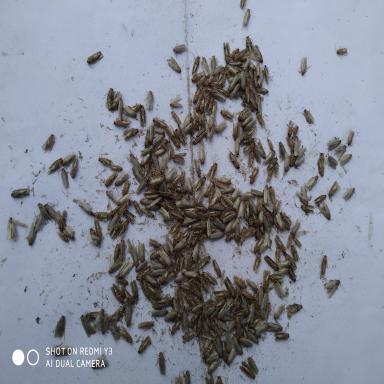pbw: (125, 234, 141, 270), (112, 256, 135, 281), (324, 273, 345, 300), (104, 180, 124, 208), (82, 47, 105, 71), (77, 312, 96, 341), (89, 351, 110, 377), (262, 155, 281, 183), (38, 128, 57, 156), (116, 322, 136, 348), (91, 302, 107, 334), (40, 201, 62, 224), (102, 80, 116, 116), (152, 346, 168, 377), (32, 204, 48, 234), (92, 150, 117, 169), (316, 198, 334, 224), (125, 150, 144, 174), (8, 183, 33, 201), (85, 224, 101, 252), (136, 332, 153, 358), (89, 216, 106, 242), (76, 198, 96, 220), (44, 154, 64, 176), (285, 299, 305, 321), (53, 226, 72, 249), (108, 282, 126, 306), (52, 207, 68, 234), (117, 203, 137, 224), (238, 6, 254, 32), (65, 154, 81, 180), (226, 146, 242, 172), (129, 198, 147, 221), (248, 39, 265, 63), (105, 258, 125, 278), (110, 169, 131, 188), (203, 160, 221, 182), (165, 54, 183, 76), (299, 106, 317, 128), (148, 241, 166, 263), (157, 246, 174, 269), (126, 277, 141, 303), (169, 38, 188, 58), (148, 113, 169, 131), (104, 202, 125, 220), (164, 182, 191, 196), (190, 126, 208, 147), (207, 49, 220, 78), (323, 136, 345, 153), (114, 217, 131, 239), (240, 32, 256, 55), (296, 52, 312, 75), (134, 103, 148, 129), (198, 51, 212, 77), (122, 301, 135, 329), (58, 149, 77, 168), (112, 114, 132, 132), (202, 338, 217, 362), (88, 207, 112, 222), (217, 104, 235, 124), (192, 252, 212, 270), (121, 122, 141, 140), (332, 141, 350, 161), (102, 167, 119, 188), (135, 316, 157, 332), (156, 203, 172, 225), (282, 250, 298, 272), (294, 184, 310, 206), (212, 284, 234, 300), (57, 166, 72, 189), (298, 200, 316, 219), (262, 252, 280, 271), (331, 42, 350, 60), (238, 362, 257, 380), (245, 355, 262, 375), (340, 184, 357, 204), (219, 217, 236, 237), (142, 86, 155, 112), (82, 308, 108, 321), (215, 300, 231, 321), (189, 50, 201, 78), (170, 188, 191, 204), (108, 87, 122, 111), (277, 138, 290, 163), (318, 253, 330, 280), (170, 150, 188, 168), (325, 180, 343, 198), (145, 283, 162, 302), (132, 177, 149, 196), (119, 175, 133, 198), (150, 128, 166, 148), (150, 136, 170, 152), (157, 152, 168, 181), (207, 101, 218, 130), (177, 292, 192, 313), (210, 174, 236, 186), (107, 209, 120, 233), (98, 310, 110, 336), (146, 306, 170, 319), (197, 272, 211, 294), (272, 256, 294, 270), (200, 269, 218, 286), (181, 328, 199, 345), (232, 272, 249, 290), (134, 266, 153, 282), (168, 92, 184, 111), (189, 282, 204, 302), (162, 164, 177, 184), (135, 239, 147, 264), (138, 196, 163, 208), (274, 232, 287, 255), (212, 336, 225, 359), (282, 152, 296, 173), (175, 121, 189, 142), (138, 202, 155, 219), (250, 250, 262, 274), (202, 351, 220, 367), (129, 166, 145, 184), (168, 218, 184, 236), (212, 118, 228, 136), (305, 172, 321, 190), (112, 240, 124, 264), (247, 164, 260, 186), (151, 151, 162, 177), (242, 124, 261, 139), (206, 357, 221, 376), (227, 82, 242, 101), (273, 210, 287, 230), (222, 275, 236, 295), (122, 287, 136, 307), (262, 180, 272, 208), (146, 174, 166, 188), (168, 317, 182, 337), (260, 62, 272, 85), (211, 257, 223, 280), (140, 277, 152, 300), (179, 309, 190, 334), (148, 266, 169, 279), (263, 208, 276, 229), (231, 335, 244, 356), (224, 346, 237, 367), (258, 237, 274, 254), (166, 173, 182, 190), (210, 215, 226, 232), (254, 321, 270, 338), (171, 237, 188, 253), (186, 311, 202, 328), (240, 226, 258, 241), (120, 103, 138, 118), (324, 152, 339, 170), (115, 191, 133, 206), (168, 108, 183, 126), (220, 210, 239, 224), (292, 151, 306, 170), (105, 160, 124, 174), (197, 206, 216, 220), (192, 157, 204, 179), (190, 239, 201, 263), (164, 138, 175, 162), (198, 314, 210, 336), (204, 184, 217, 204), (222, 40, 232, 66), (227, 74, 240, 94), (112, 306, 125, 326), (179, 215, 199, 228), (246, 300, 256, 326), (194, 173, 207, 193), (255, 92, 265, 118), (209, 227, 225, 243), (133, 258, 149, 274), (160, 271, 176, 287), (209, 88, 226, 103), (142, 272, 157, 289), (200, 304, 217, 319), (267, 270, 285, 284), (162, 308, 180, 322), (236, 336, 254, 350), (252, 235, 264, 256), (188, 300, 206, 314), (264, 148, 278, 166), (150, 145, 168, 159), (198, 138, 207, 166), (236, 104, 250, 122), (285, 116, 296, 138), (315, 157, 326, 179), (174, 197, 196, 208), (290, 216, 301, 238), (290, 243, 301, 265), (275, 278, 286, 300), (267, 182, 278, 204), (194, 72, 209, 88), (246, 146, 256, 170), (310, 192, 330, 204), (246, 197, 258, 217), (213, 316, 228, 332), (181, 110, 193, 130), (242, 117, 258, 132), (225, 45, 240, 61), (252, 141, 262, 165), (190, 226, 210, 238), (264, 321, 284, 333), (238, 70, 248, 94), (191, 108, 203, 128), (204, 122, 216, 142), (226, 59, 240, 76), (182, 119, 196, 136), (210, 61, 224, 78), (176, 280, 193, 294), (245, 276, 259, 293), (246, 327, 263, 341), (252, 84, 270, 97), (273, 302, 286, 320), (255, 68, 266, 89), (248, 84, 259, 105), (230, 118, 240, 141), (236, 197, 246, 220), (219, 183, 238, 195), (223, 230, 237, 246), (210, 198, 226, 212), (242, 140, 258, 154), (228, 298, 242, 314), (171, 272, 188, 285), (138, 145, 155, 158), (181, 208, 201, 219), (147, 121, 157, 143), (242, 81, 252, 103), (184, 228, 195, 248), (170, 294, 181, 314), (286, 264, 296, 286), (193, 90, 203, 112), (196, 186, 207, 206), (238, 134, 256, 146), (228, 184, 240, 202), (225, 317, 237, 335), (262, 225, 271, 249), (116, 94, 124, 121), (292, 134, 301, 158), (257, 282, 265, 309), (232, 135, 241, 159), (261, 288, 270, 312), (148, 235, 162, 250), (233, 47, 248, 61), (158, 294, 173, 308), (178, 248, 186, 274), (262, 266, 270, 292), (291, 232, 303, 249), (262, 214, 272, 234), (220, 340, 228, 365), (205, 94, 215, 114), (224, 331, 232, 356), (238, 224, 247, 246), (317, 149, 326, 171), (288, 124, 299, 142), (209, 76, 223, 90), (260, 201, 275, 214), (214, 296, 229, 309), (238, 190, 257, 200), (255, 193, 265, 212), (180, 270, 199, 280), (284, 132, 294, 150), (232, 194, 242, 212), (273, 332, 291, 342), (244, 196, 252, 218), (347, 126, 355, 148), (205, 215, 212, 240), (240, 313, 253, 326), (252, 67, 259, 90), (249, 187, 265, 197), (198, 94, 206, 114), (274, 266, 290, 276), (202, 92, 210, 112), (203, 372, 216, 384), (295, 145, 307, 158), (152, 124, 166, 135), (257, 207, 265, 226), (203, 310, 211, 329), (245, 60, 257, 72), (263, 300, 271, 318), (266, 136, 275, 152), (274, 246, 281, 266), (223, 64, 231, 81), (144, 204, 161, 212), (228, 58, 244, 66), (183, 369, 192, 383), (256, 60, 262, 77), (177, 372, 185, 384), (215, 372, 223, 382), (172, 373, 180, 383), (239, 1, 246, 10)
